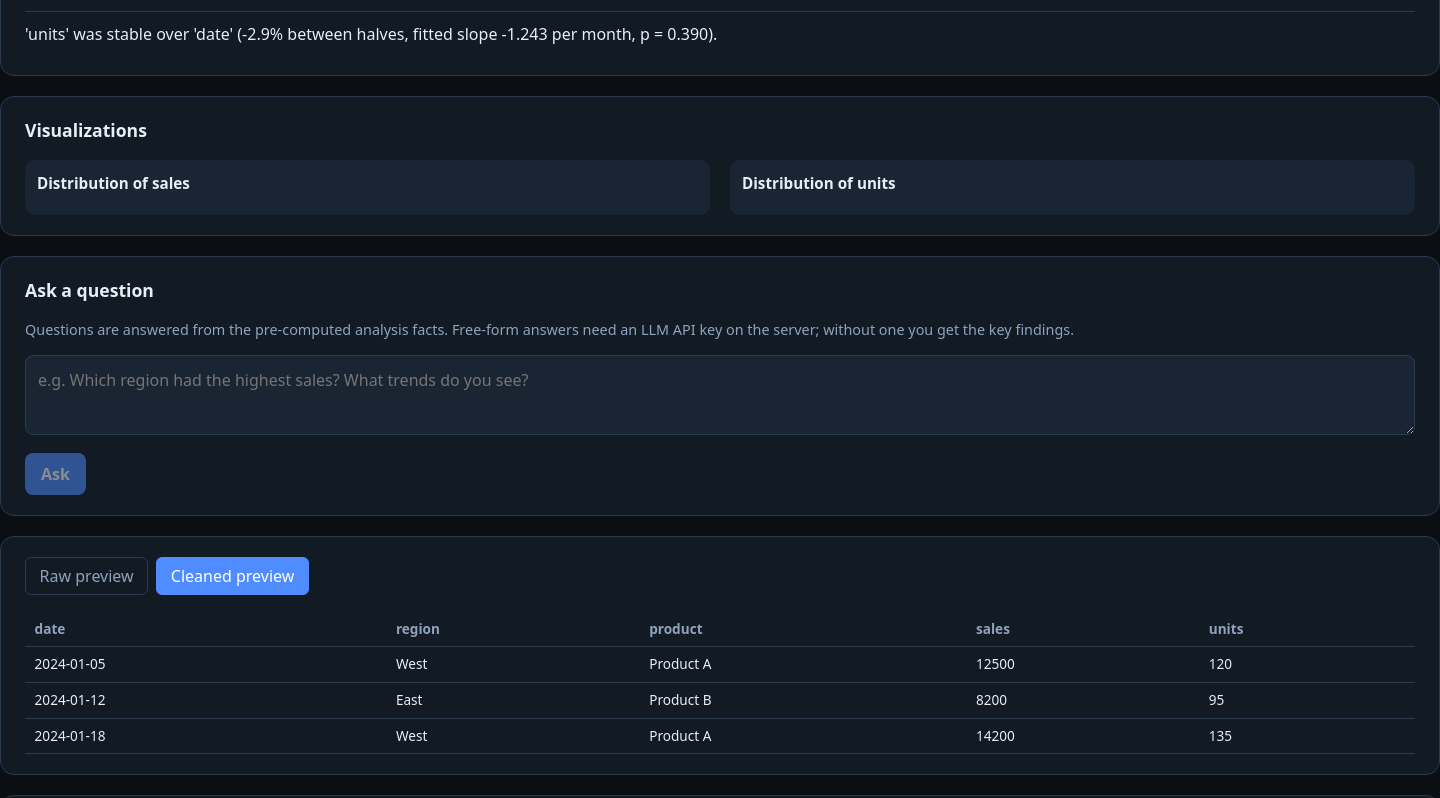
Scenario: AnalysisDashboard › asks a question and shows the answer
The width and height of the screenshot is (1440, 798).
(page scrolled)
Check: the button "Ask" is disabled, box [25, 453, 86, 495]
Type "Which region sells most?" into the text box with placeholder "Which region" at (720, 395), box [25, 355, 1415, 435]
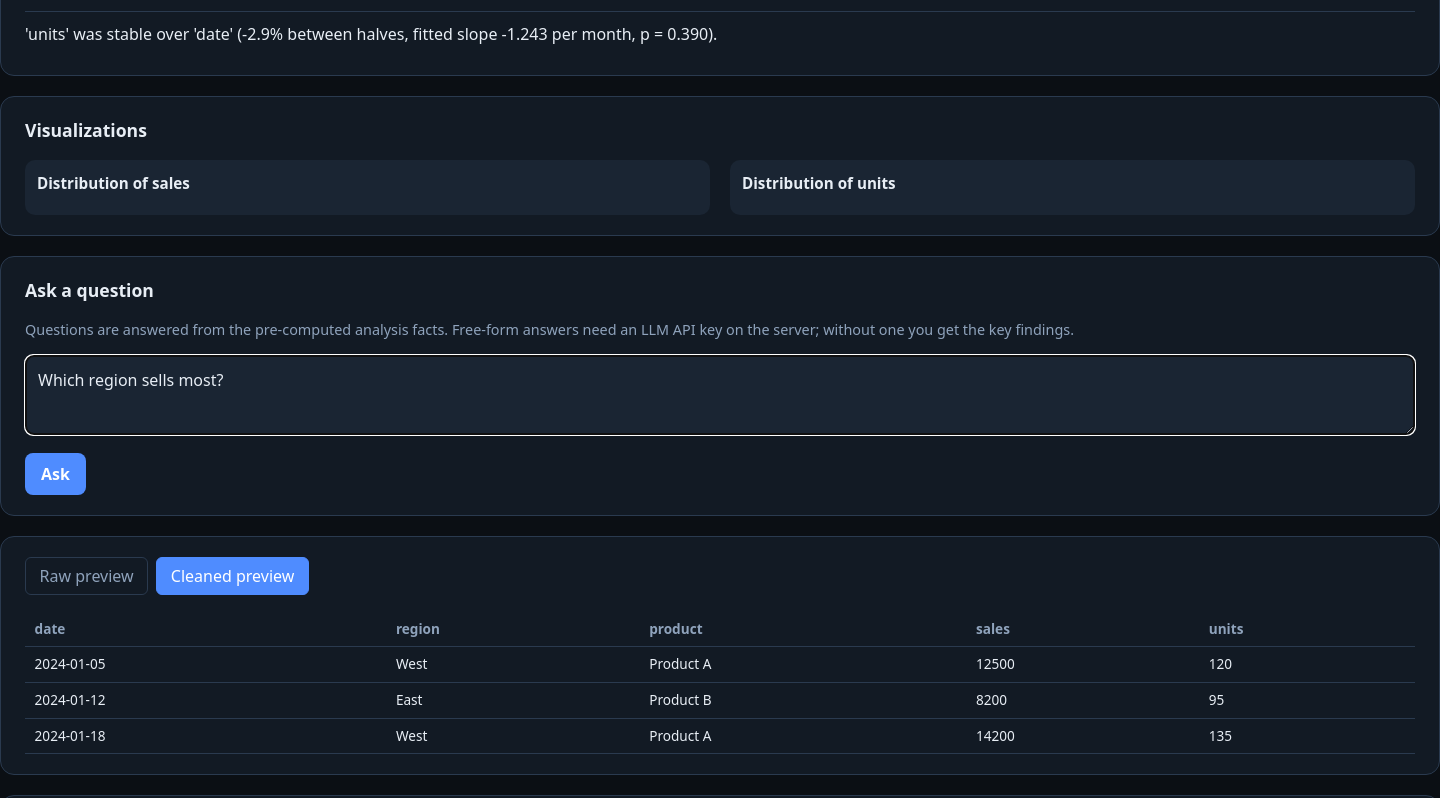
Click the button "Ask" at (55, 474), box [25, 453, 86, 495]
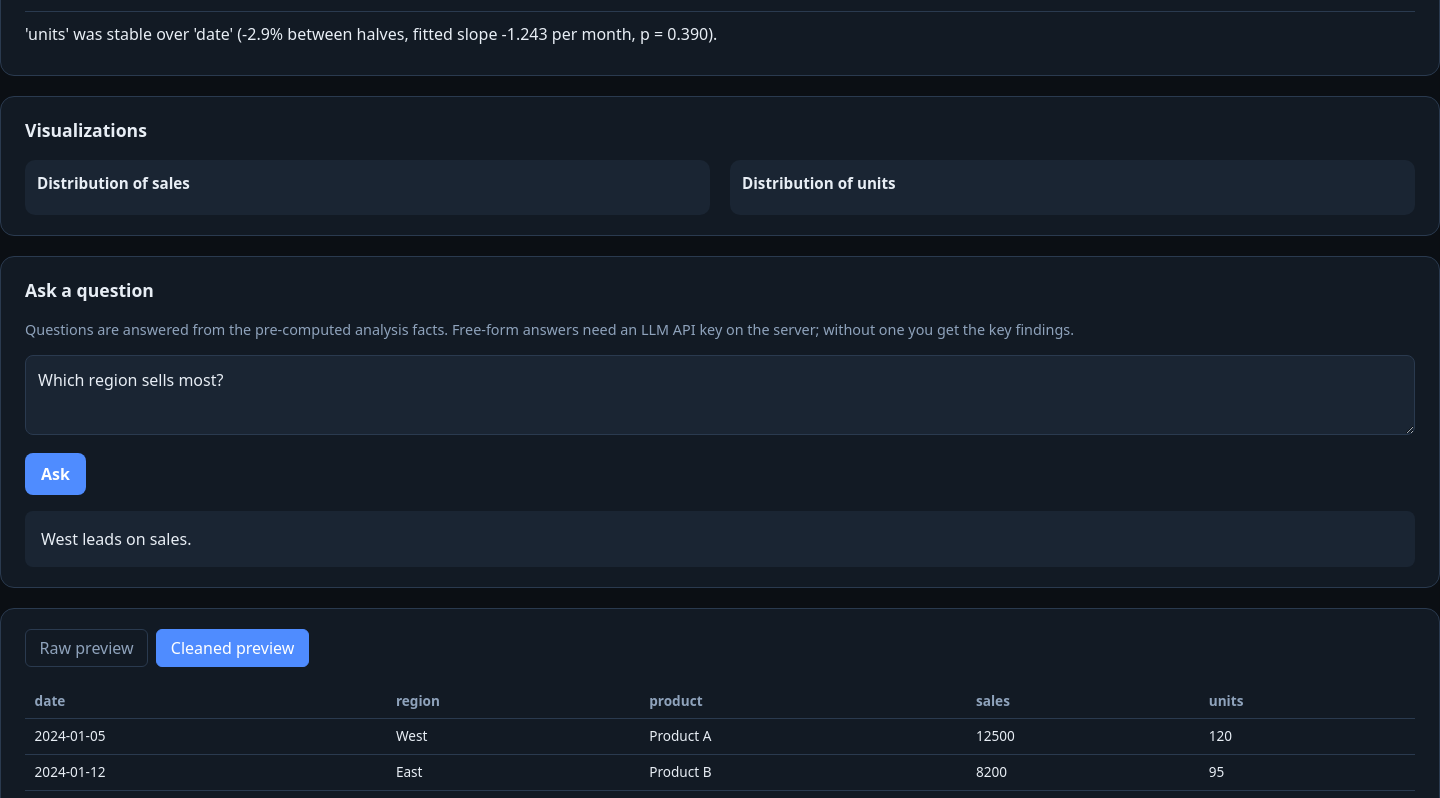
Check: the text "West leads on sales." is shown, box [25, 511, 1415, 567]
